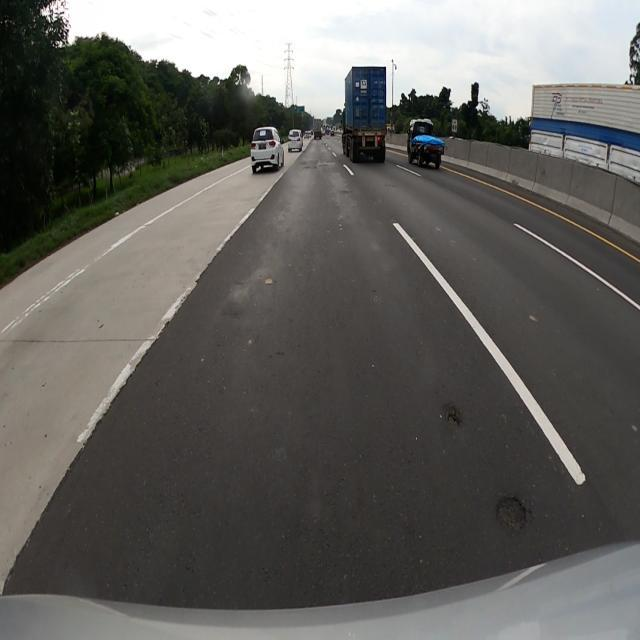Buraco: (492, 493, 530, 534), (443, 404, 467, 429)
